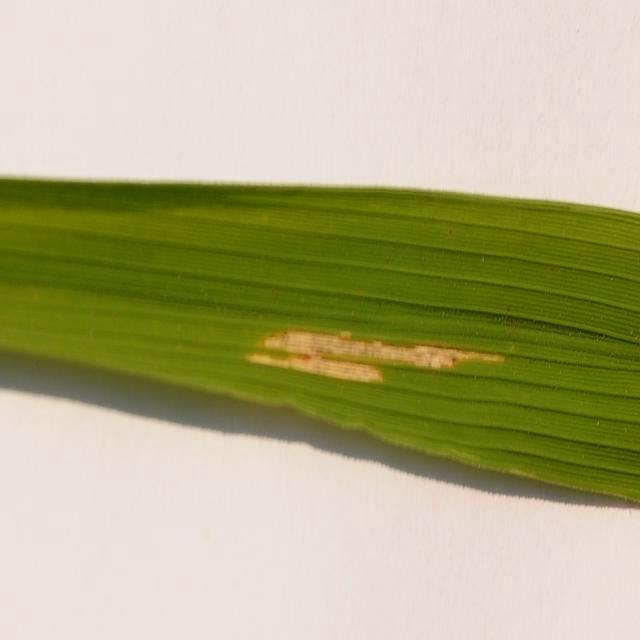bacterial_leaf_blight: (246, 330, 503, 383)
